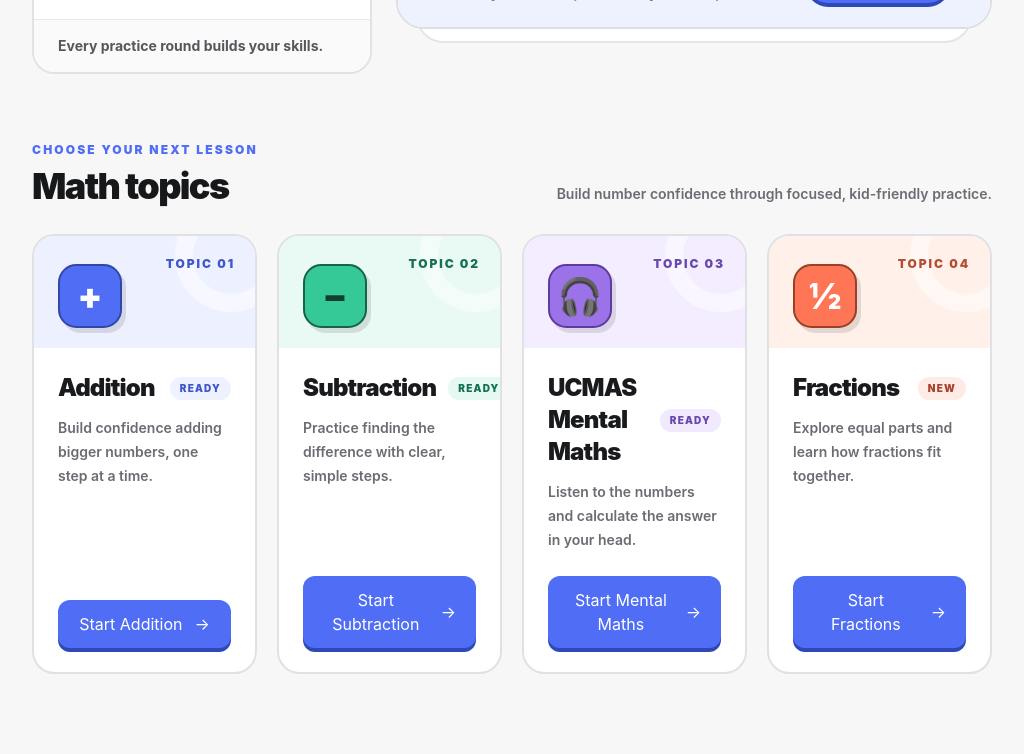
Test case: topic selection › starts a Subtraction round at Level 1
This screenshot has width=1024, height=754.
(page scrolled)
Click the button "Start Subtraction →" at {"x": 390, "y": 612}, box [303,576,476,648]
(page scrolled)
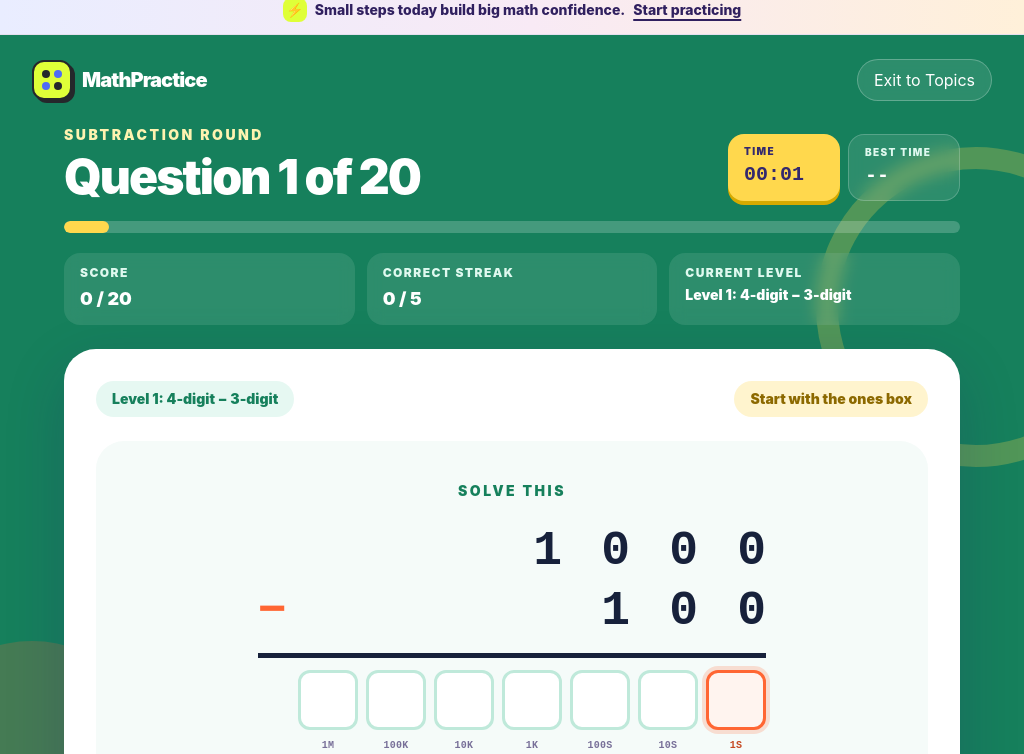
Expected: the heading "Question 1 of 20" is shown, [64,153,420,201]
Expected: the text "Level 1: 4-digit − 3-digit" below "Current level" is shown, [685,286,852,303]
Expected: the text named "Elapsed time" is shown, [744,163,804,186]
